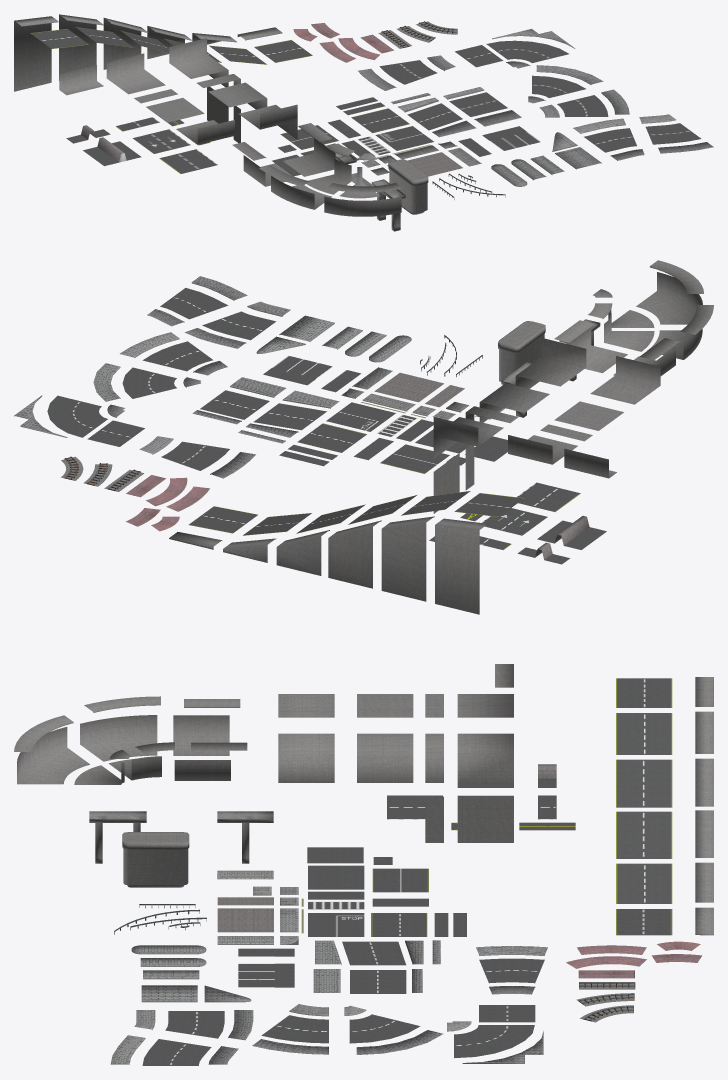
File: modular_kit.fbx
3 views of the same model, one above another, from view 1: azimuth 30°, elevation 25°; view 2: azimuth 150°, elevation 25°; view 3: azimuth 270°, elevation 25° (orthographic). The views are drawn at different scales.
Visible parts, largest first — view 1: modular_kit; view 2: modular_kit; view 3: modular_kit.
Part boxes in pixels (x1,y1,x2,y2): modular_kit: (14,14,713,231); modular_kit: (14,260,713,614); modular_kit: (14,664,713,1065).
Bounding box in the file's own units: 9.92 × 1.58 × 9.28.
Materials: 1 (1 with a texture image).
